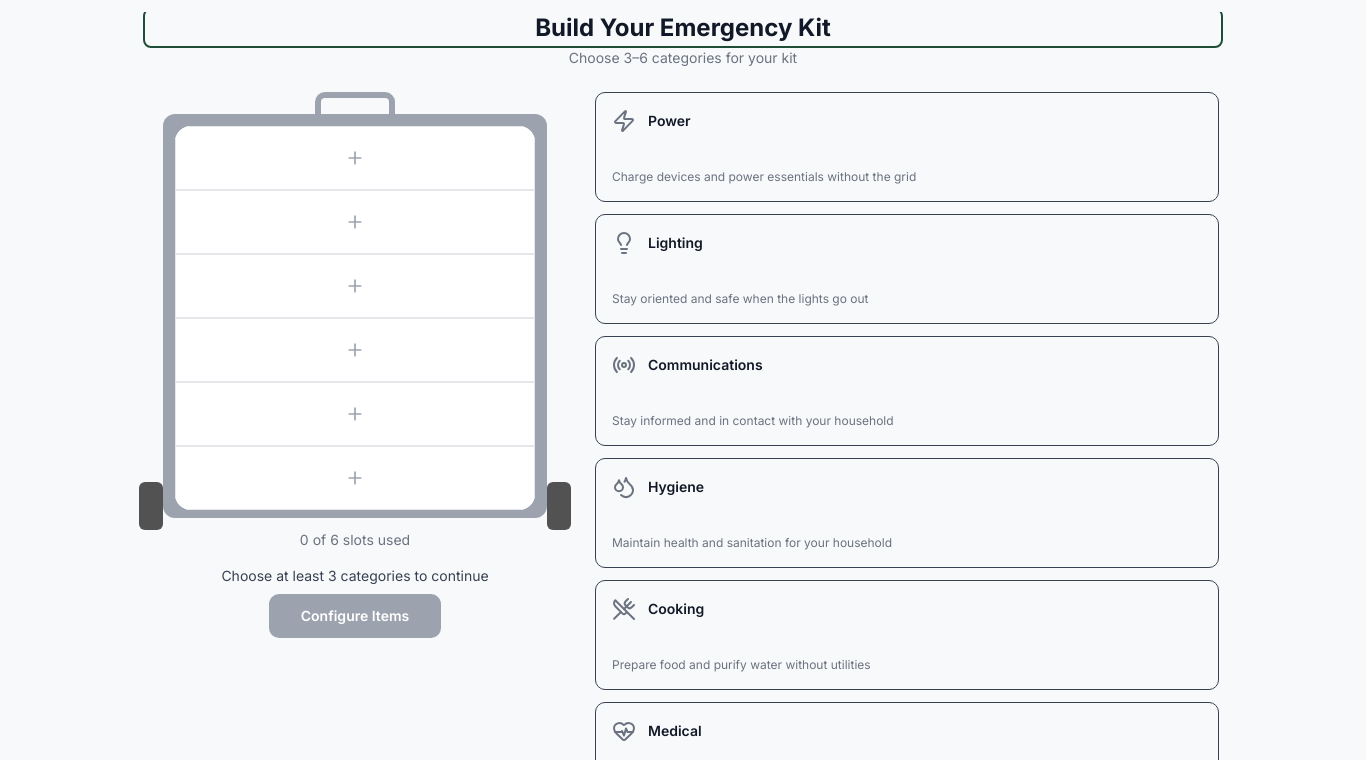
it: Subkit-Visualizer Integration › displays correct slot count text
The width and height of the screenshot is (1366, 760).
Expected: the text "0 of 6 slots used" is shown, [300,531,410,548]
Click the button with aria-label "Power subkit": (669, 120) [612,109,916,184]
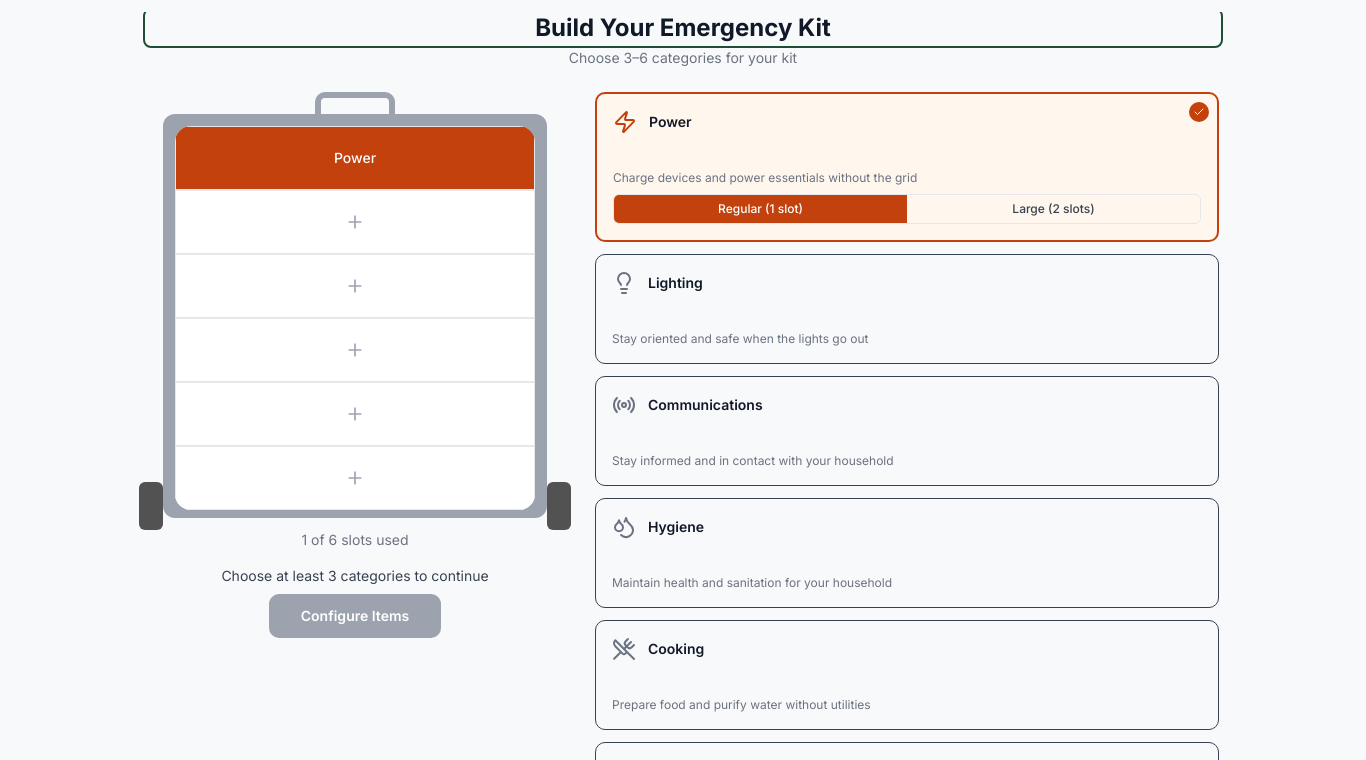
Now the text "1 of 6 slots used" is shown, box [301,531,408,548]
Click the button with aria-label "Lighting subkit": (675, 282) [612,271,868,346]
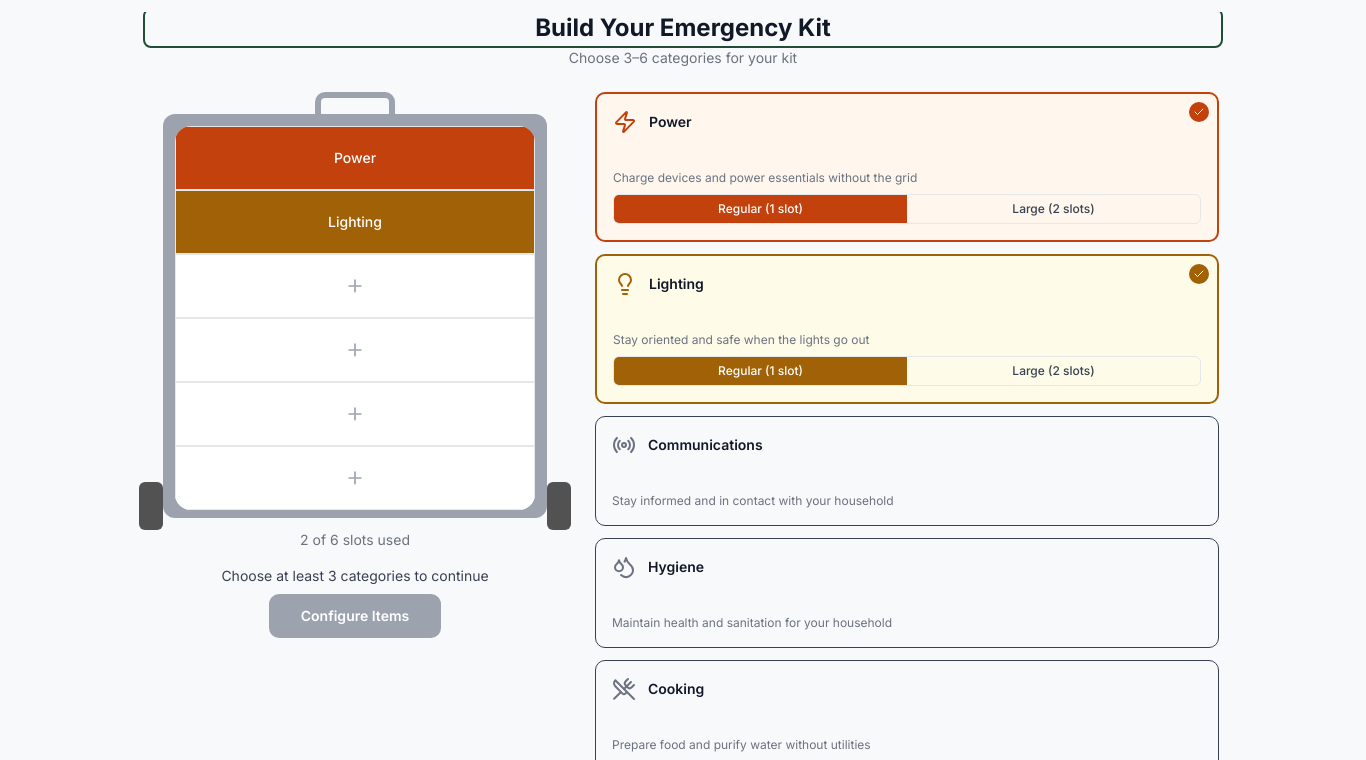
Now the text "2 of 6 slots used" is shown, box [300,531,410,548]
